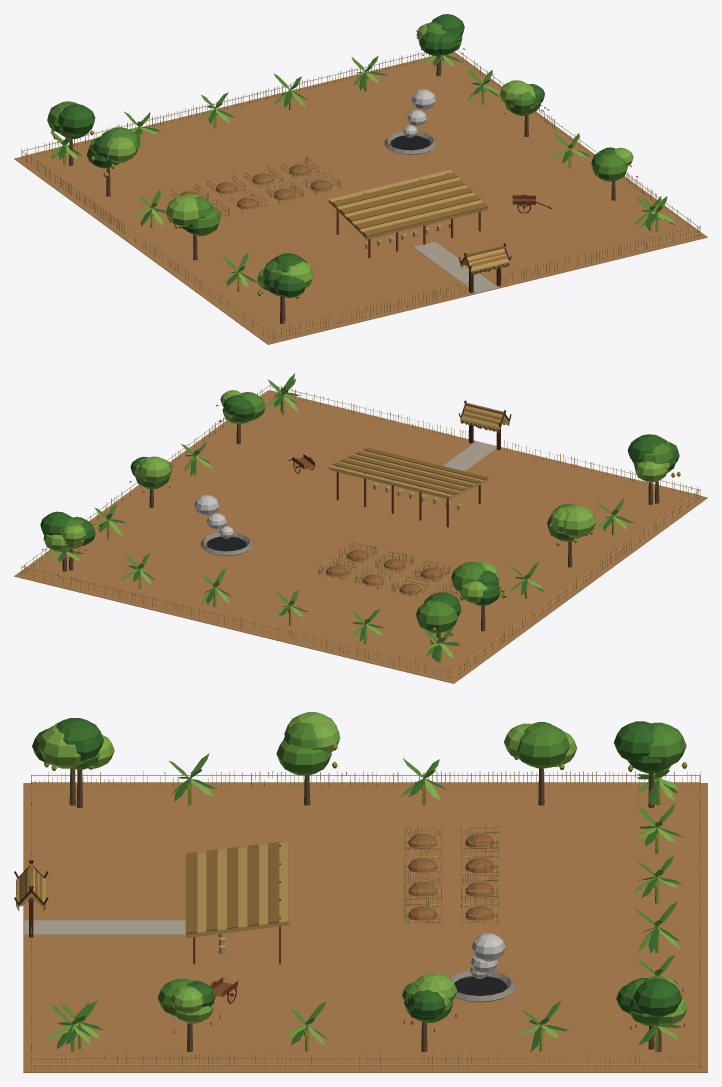
File: waste.glb
The picture shows the model from 3 angles, top to bottom: view 1: azimuth 30°, elevation 25°; view 2: azimuth 150°, elevation 25°; view 3: azimuth 270°, elevation 25°; orthographic projection. The views are drawn at different scales.
Parts seen in each view (by area): view 1: body; view 2: body; view 3: body.
Boxes of the visible parts, left/top/right/bottom form: body: left=14, top=14, right=707, bottom=344; body: left=14, top=373, right=707, bottom=683; body: left=14, top=712, right=707, bottom=1072.
Size of the model in its own units: 47.9 by 6.98 by 48.56.
